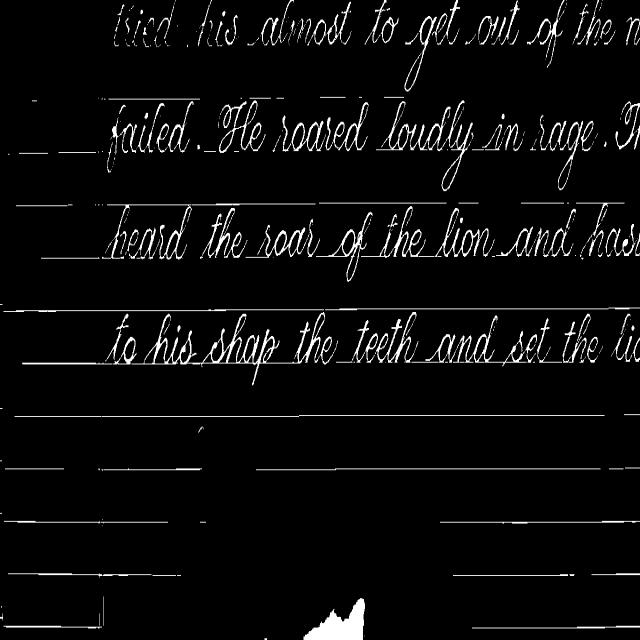hand: (304, 598, 364, 639)
noise: (3, 307, 640, 314), (250, 461, 640, 472), (14, 413, 606, 420), (95, 202, 447, 208), (440, 516, 640, 525), (7, 571, 181, 579), (4, 615, 104, 628), (2, 518, 170, 525), (453, 571, 640, 577), (96, 466, 206, 472), (472, 625, 640, 628), (100, 97, 200, 102), (18, 149, 100, 154), (4, 466, 66, 472), (40, 255, 104, 260), (574, 202, 624, 208), (16, 203, 72, 206), (22, 362, 104, 364), (268, 359, 296, 364), (316, 95, 348, 99), (520, 202, 566, 204), (382, 95, 404, 99), (246, 97, 286, 99), (314, 253, 332, 256), (204, 150, 216, 154), (458, 202, 479, 204), (198, 426, 204, 433), (362, 253, 374, 256), (320, 203, 332, 204)
not-noise: (113, 0, 640, 89), (380, 100, 474, 190), (108, 100, 194, 161), (200, 313, 279, 378), (104, 205, 192, 259), (273, 101, 368, 151), (530, 116, 595, 189), (108, 117, 188, 167), (340, 311, 418, 361), (500, 209, 576, 257), (424, 316, 498, 361), (580, 204, 640, 258), (140, 312, 202, 364), (250, 219, 320, 258), (439, 207, 494, 256), (332, 212, 372, 279), (376, 205, 428, 256), (218, 99, 266, 153), (200, 207, 246, 258), (294, 311, 338, 364), (502, 318, 550, 364), (562, 313, 602, 362), (106, 314, 140, 364), (482, 113, 524, 150), (106, 314, 136, 364), (613, 313, 640, 362), (614, 101, 640, 149), (604, 141, 606, 147), (198, 144, 200, 149)
